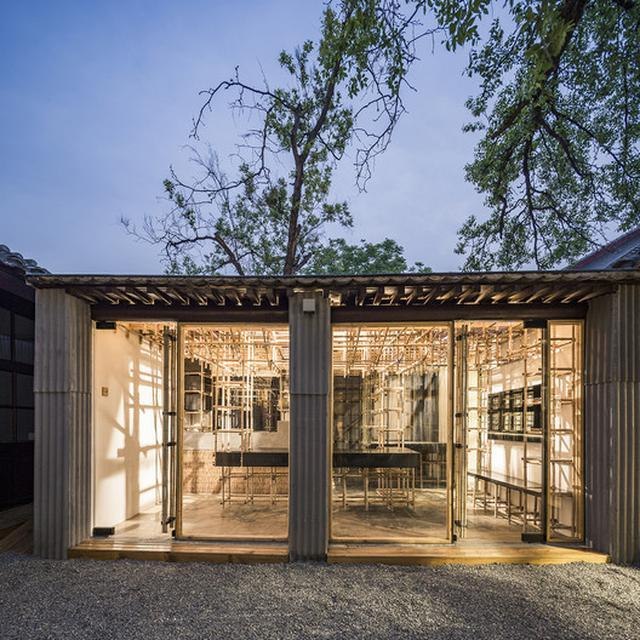building: (25, 271, 640, 567)
